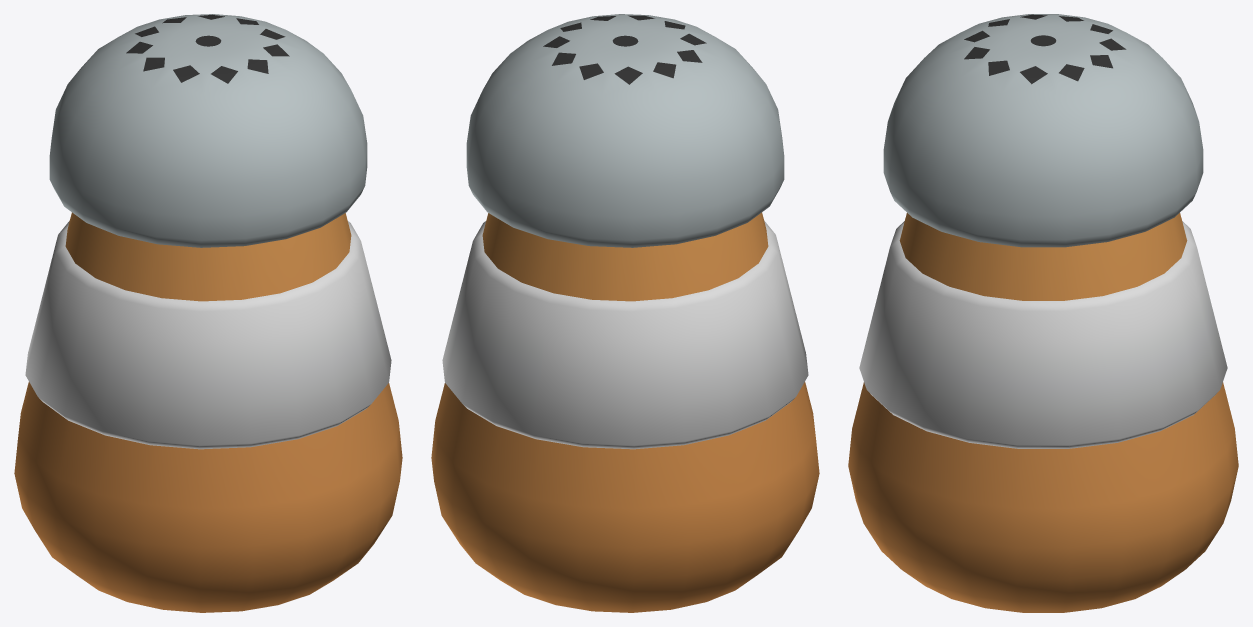
The model's file is Blackpapper.fbx.
3 renders of one model, left to right at view 1: azimuth 30°, elevation 25°; view 2: azimuth 150°, elevation 25°; view 3: azimuth 270°, elevation 25°, orthographic.
Parts seen in each view (by area): view 1: Cylinder.007; view 2: Cylinder.007; view 3: Cylinder.007.
Boxes of the visible parts, left/top/right/bottom form: Cylinder.007: left=14, top=14, right=402, bottom=612; Cylinder.007: left=431, top=14, right=819, bottom=612; Cylinder.007: left=848, top=14, right=1238, bottom=612.
Size of the model in its own units: 1.53 by 2.33 by 1.55.
